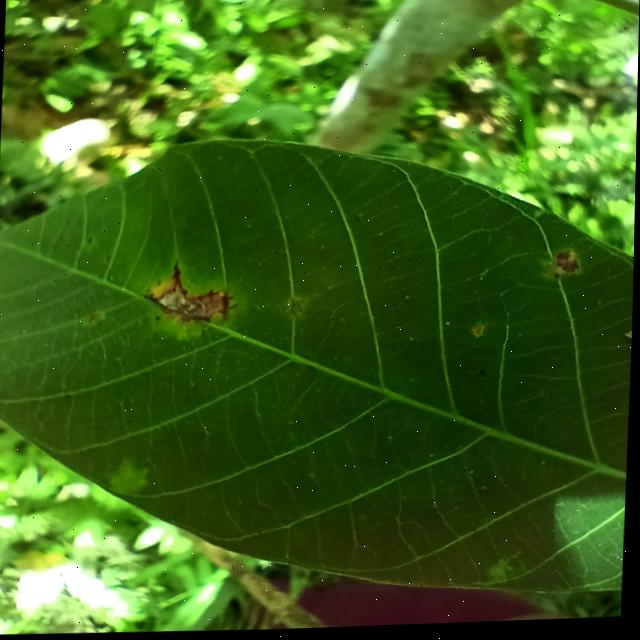Corynespora: (142, 258, 242, 326)
